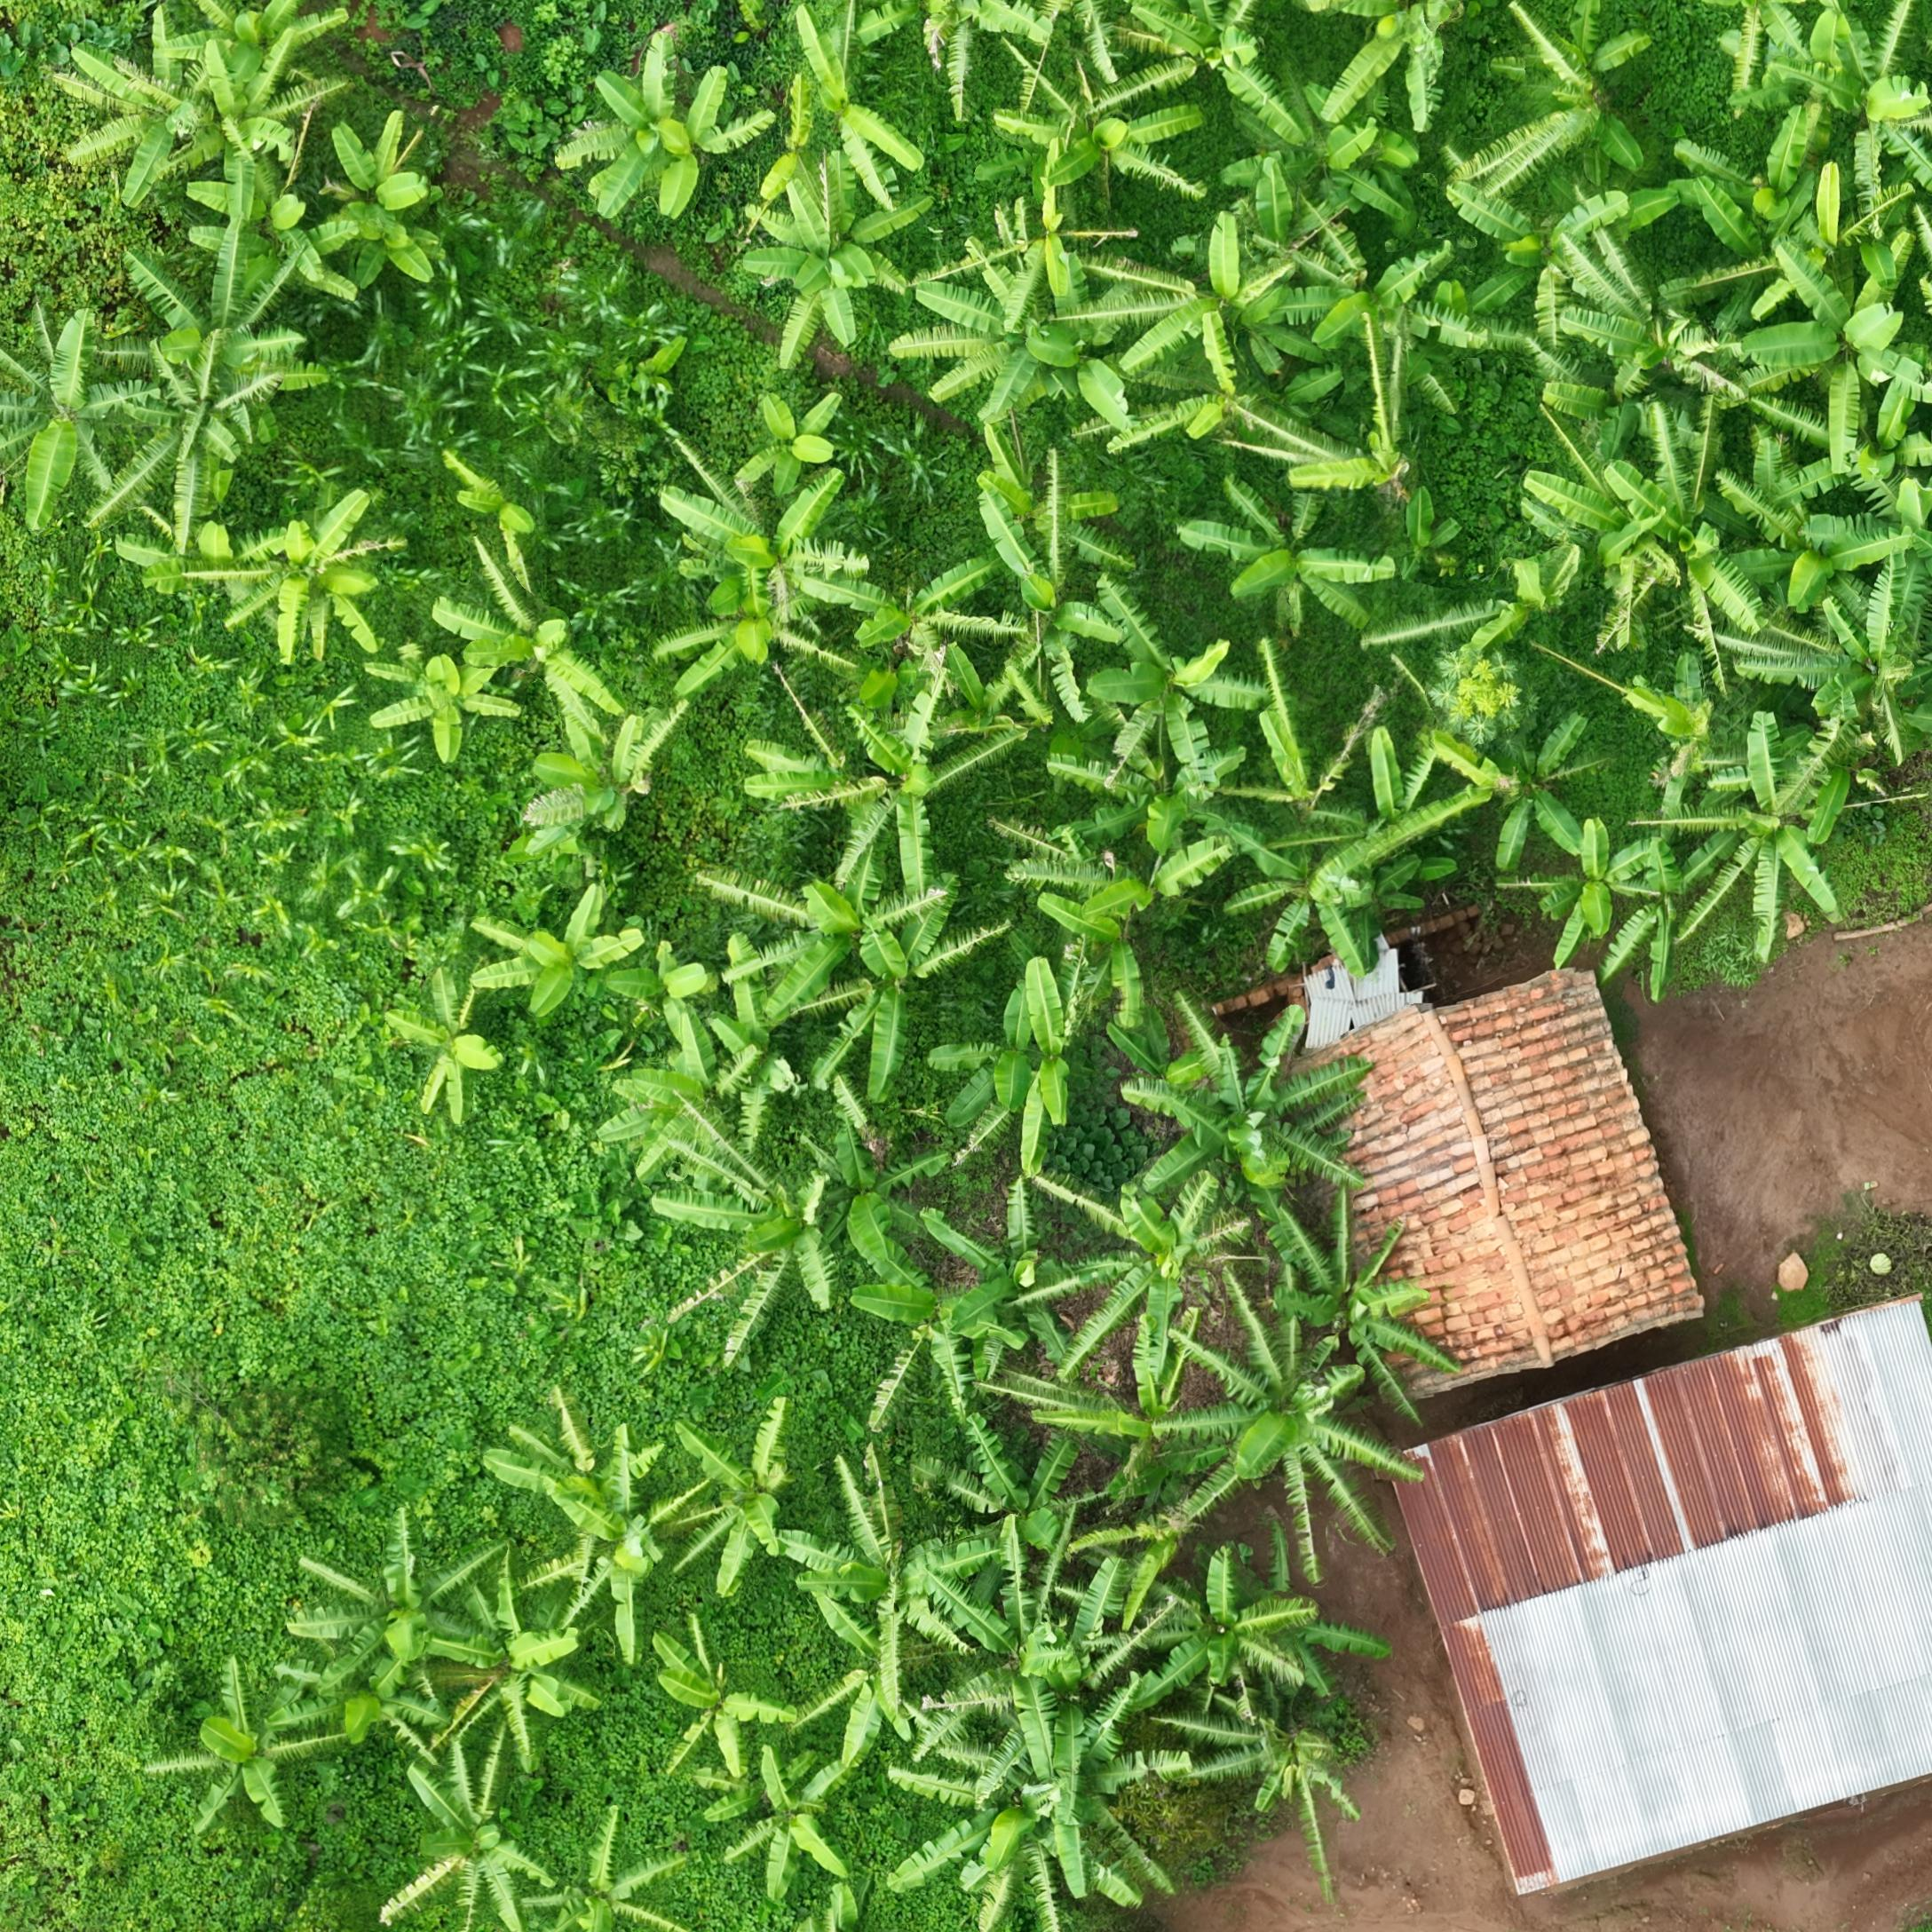Banana: (1221, 1338, 1460, 1631), (1138, 1049, 1387, 1283), (812, 1507, 1039, 1727), (683, 1143, 872, 1394), (952, 1608, 1159, 1836), (1253, 1254, 1488, 1454), (134, 1727, 361, 1920), (1090, 1201, 1272, 1433), (630, 464, 893, 619), (297, 1573, 518, 1752), (1739, 752, 1916, 970), (1003, 1737, 1200, 1932), (1566, 458, 1760, 655), (941, 232, 1118, 441), (1332, 209, 1520, 400), (1240, 483, 1438, 663), (113, 260, 327, 426), (798, 12, 1005, 180), (1154, 2, 1385, 150), (1493, 188, 1714, 334), (465, 563, 633, 752), (934, 1440, 1125, 1606), (435, 1656, 614, 1833), (490, 1437, 690, 1594), (37, 16, 218, 189), (878, 709, 1030, 915), (1598, 262, 1813, 405), (124, 349, 271, 559), (1180, 1628, 1366, 1794), (203, 522, 393, 683), (957, 1246, 1145, 1407), (1217, 1755, 1430, 1897), (763, 724, 934, 897), (1560, 4, 1732, 177), (993, 456, 1178, 614), (1040, 57, 1226, 214), (856, 957, 1012, 1143), (1062, 771, 1270, 909), (1104, 1369, 1247, 1568), (1253, 159, 1426, 322), (916, 1826, 1182, 1932), (1260, 73, 1476, 200), (724, 874, 915, 1017), (1145, 241, 1318, 398), (571, 1543, 727, 1713), (1155, 598, 1300, 780), (1281, 1587, 1431, 1757), (817, 1668, 962, 1844), (688, 1458, 826, 1642), (320, 131, 469, 301), (885, 1309, 1044, 1467), (1260, 844, 1440, 982), (763, 196, 927, 347), (1272, 694, 1412, 870), (671, 1672, 814, 1842), (1366, 777, 1532, 922), (835, 1166, 970, 1343), (189, 57, 347, 205), (1000, 594, 1154, 745), (4, 317, 111, 527), (1744, 191, 1905, 331), (1352, 4, 1523, 133), (1651, 674, 1799, 821), (1683, 414, 1806, 589), (474, 916, 663, 1028), (1750, 119, 1923, 239), (676, 607, 847, 727), (1822, 257, 1932, 444), (860, 586, 1033, 704), (941, 4, 1102, 131), (1812, 16, 1932, 186), (713, 959, 832, 1129), (1787, 479, 1932, 616), (1053, 913, 1200, 1047), (545, 734, 674, 886), (1031, 994, 1134, 1185), (1507, 763, 1651, 897), (138, 529, 281, 658), (161, 2, 368, 90), (1773, 442, 1921, 561), (724, 1821, 881, 1932), (403, 1016, 520, 1164), (600, 1072, 755, 1184), (382, 1835, 557, 1932), (1672, 846, 1762, 1033), (391, 678, 520, 791), (959, 1044, 1077, 1157), (1851, 616, 1932, 777), (568, 48, 702, 145), (334, 1727, 476, 1819), (694, 85, 789, 219), (796, 168, 962, 242), (763, 418, 890, 513), (1601, 872, 1704, 991), (1437, 471, 1522, 612), (1842, 410, 1932, 541), (617, 989, 734, 1090), (1380, 879, 1479, 989), (754, 117, 865, 212), (1534, 564, 1629, 672), (626, 349, 729, 421), (465, 488, 557, 559)
